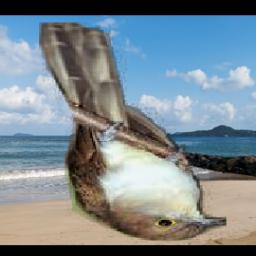Cuckoo: (40, 23, 227, 243)
